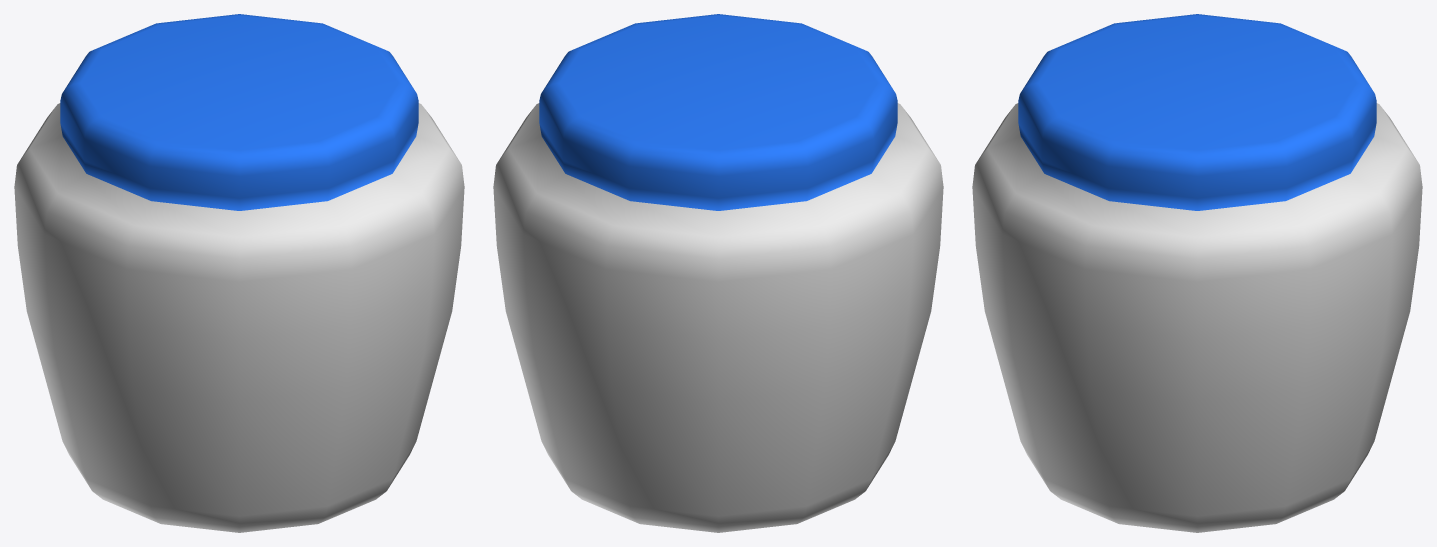
File: plastic_bottle.fbx
3 views of the same model, side by side, from view 1: azimuth 30°, elevation 25°; view 2: azimuth 150°, elevation 25°; view 3: azimuth 270°, elevation 25° (orthographic).
Parts seen in each view (by area): view 1: plastic bottle; view 2: plastic bottle; view 3: plastic bottle.
Part boxes in pixels (x1=…): plastic bottle: x1=14, y1=14, x2=464, y2=532; plastic bottle: x1=493, y1=14, x2=943, y2=532; plastic bottle: x1=972, y1=14, x2=1422, y2=532.
Bounding box in the file's own units: 8.09 × 7.95 × 8.09.
1 material, 1 textured.
